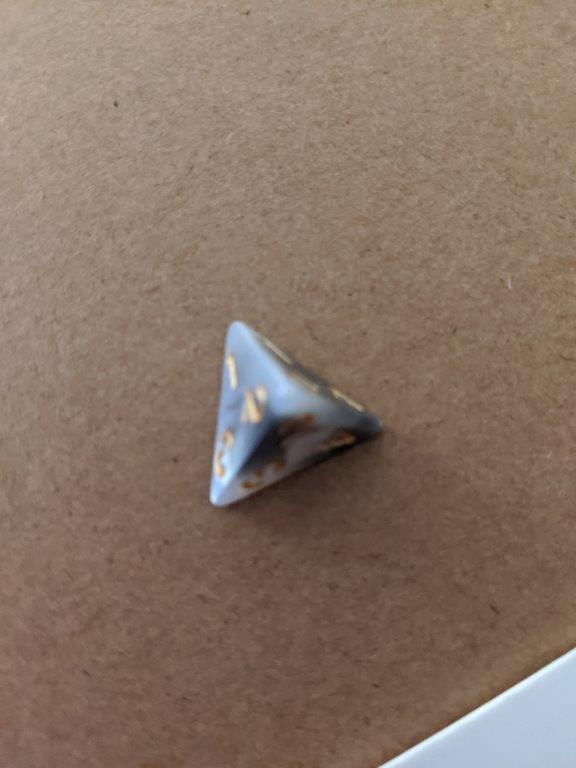d4-2: (201, 316, 389, 521)
